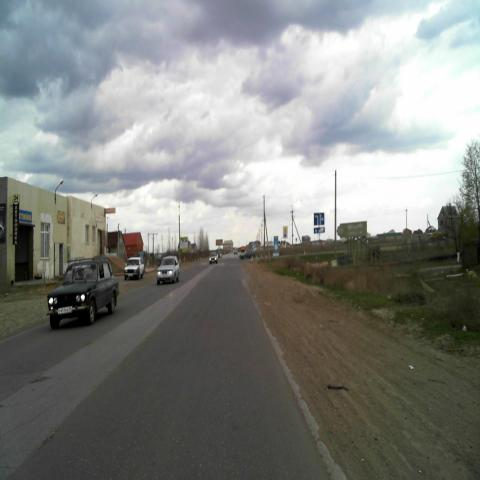5_15_2_2: (314, 212, 324, 225)
